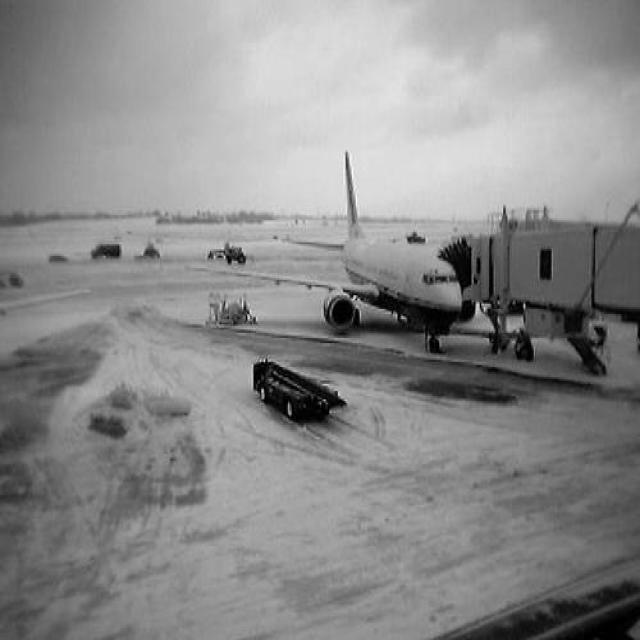aeroplane: (184, 152, 463, 355)
